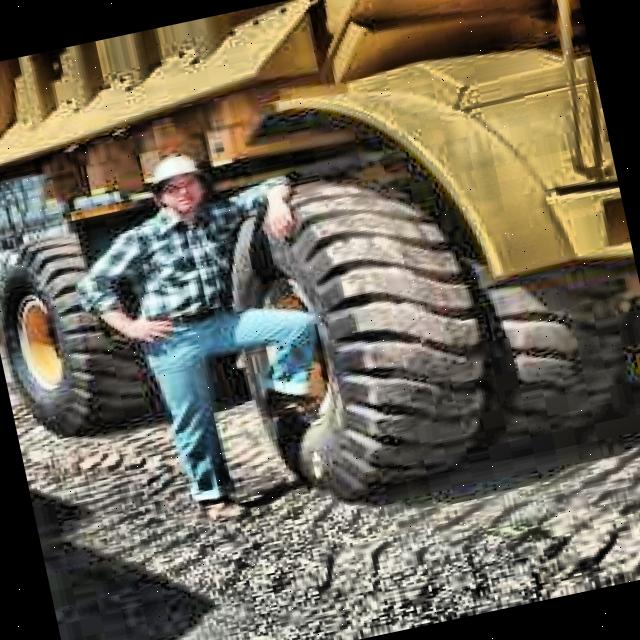helmet: (140, 146, 216, 216)
